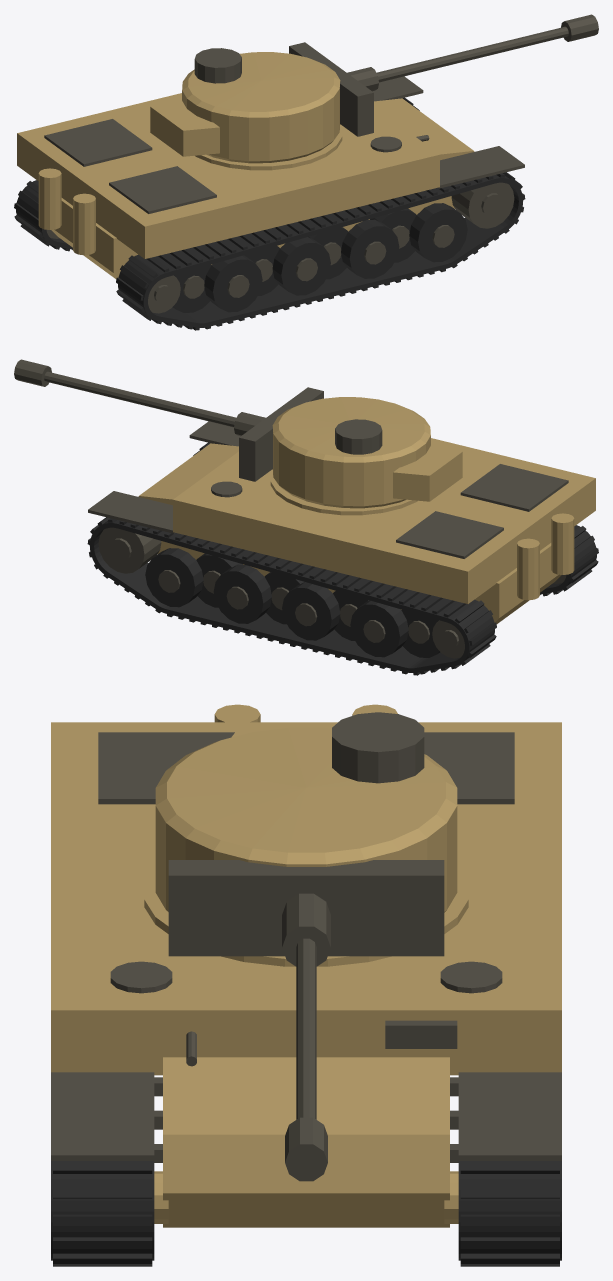
File: de_tiger_i.obj
3 renders of one model, top to bottom at view 1: azimuth 30°, elevation 25°; view 2: azimuth 150°, elevation 25°; view 3: azimuth 270°, elevation 25°, orthographic. The views are drawn at different scales.
Bounding box in the file's own units: 8.63 × 2.91 × 3.56.
